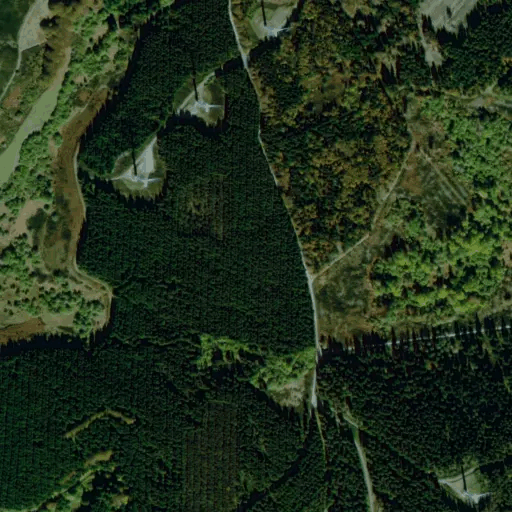wt: (176, 44, 230, 124), (112, 119, 166, 198), (441, 439, 498, 506), (246, 1, 289, 43)
